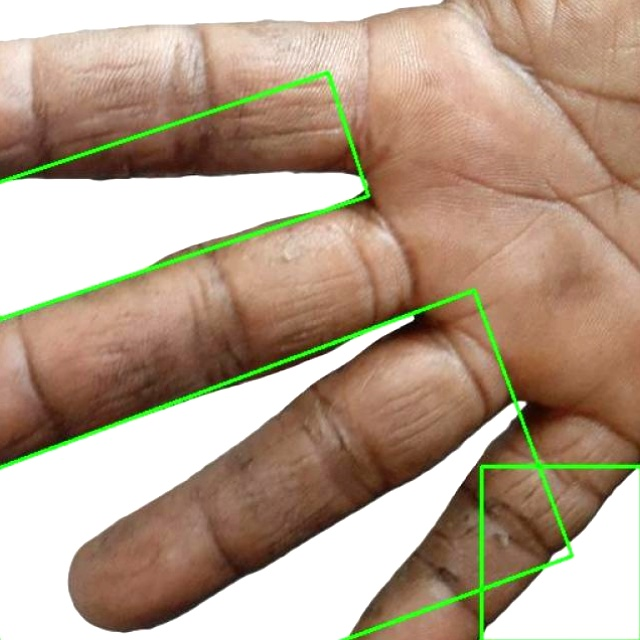Eczema: (0, 284, 572, 639), (0, 73, 373, 332), (481, 466, 639, 639)
